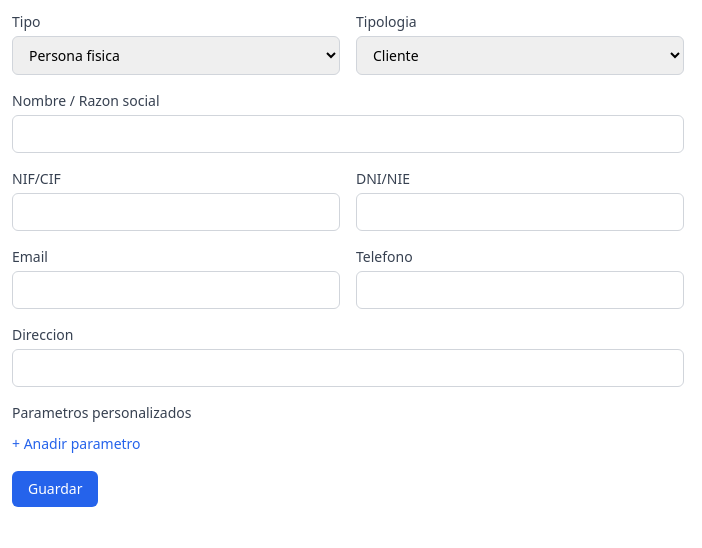
it: ContactoForm › shows validation error when nombre is empty
// Submit without filling nombre
Click the button "Guardar": (55, 489) x1=12 y1=471 x2=98 y2=507
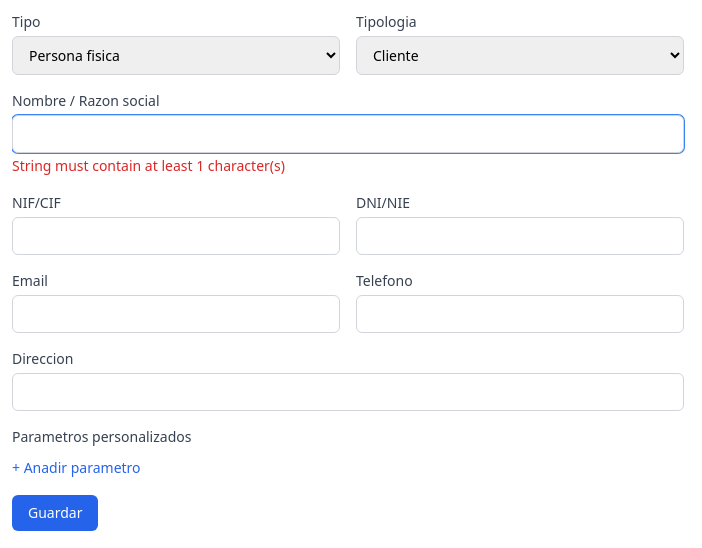
expect the text "at least 1" is shown: met, box x1=12 y1=156 x2=285 y2=175
